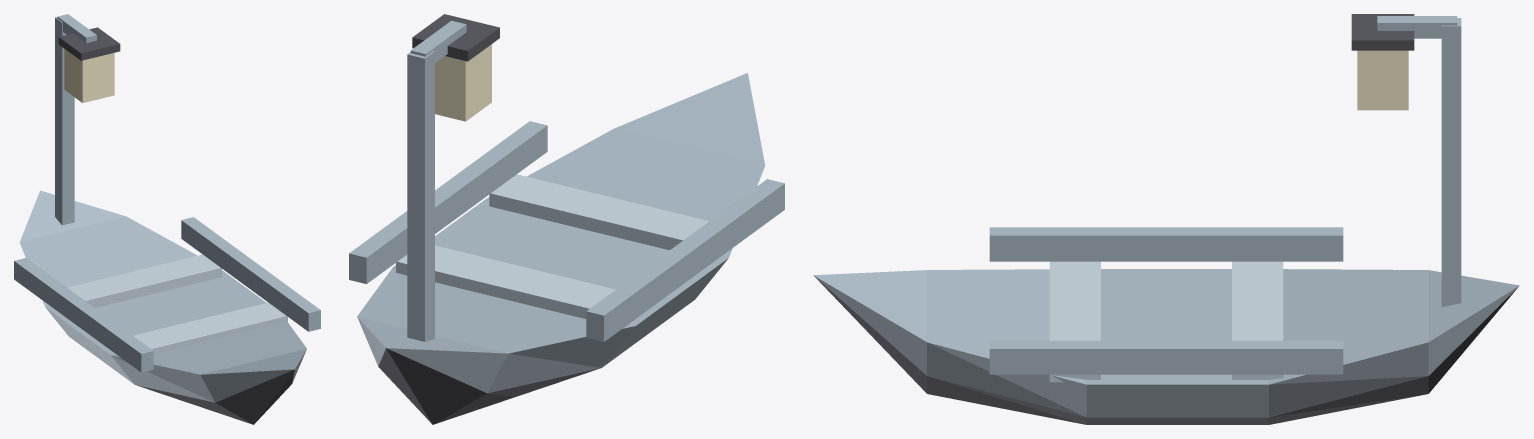
The model's file is still_boat.glb.
3 renders of one model, left to right at view 1: azimuth 30°, elevation 25°; view 2: azimuth 150°, elevation 25°; view 3: azimuth 270°, elevation 25°, orthographic. The views are drawn at different scales.
Size of the model in its own units: 0.505 by 0.785 by 1.24.
